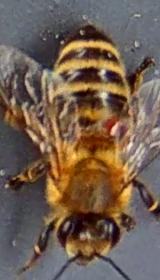varroa_mite: (92, 108, 140, 144)
